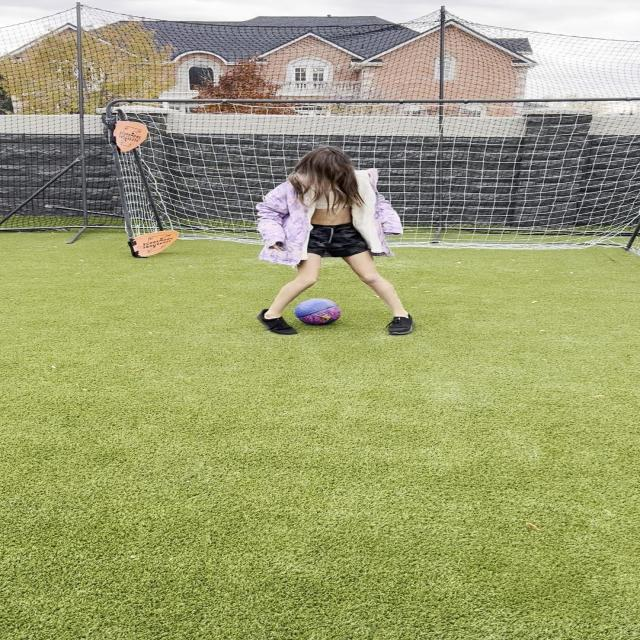Soccer Ball: (294, 298, 342, 326)
